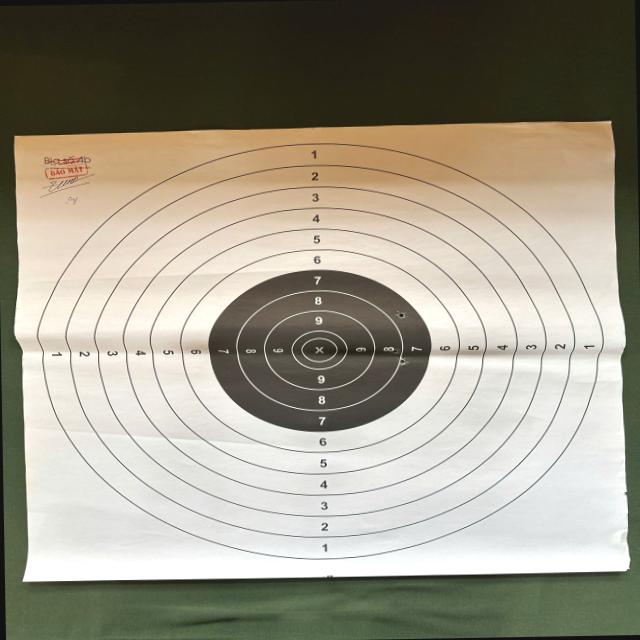bullet: (398, 357, 408, 365), (396, 312, 406, 317), (392, 349, 400, 353)
target: (14, 122, 629, 581)
